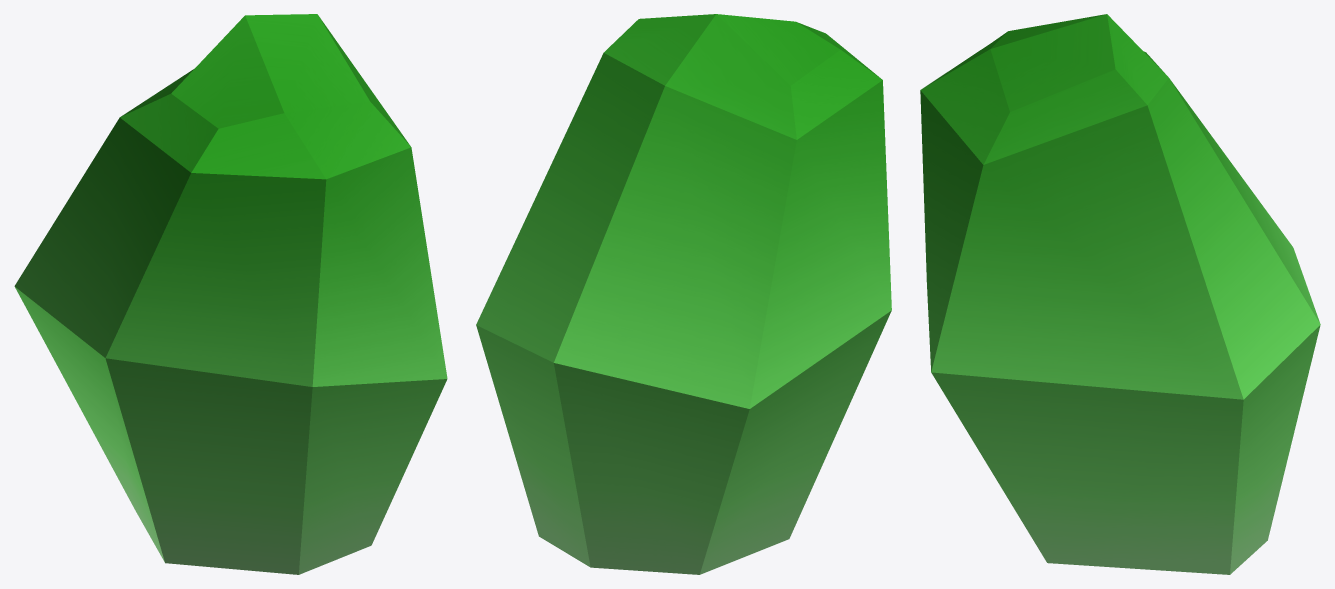
The model's file is Cristal05.fbx.
3 views of the same model, side by side, from view 1: azimuth 30°, elevation 25°; view 2: azimuth 150°, elevation 25°; view 3: azimuth 270°, elevation 25° (orthographic). The views are drawn at different scales.
Parts seen in each view (by area): view 1: Cylinder.021; view 2: Cylinder.021; view 3: Cylinder.021.
Boxes of the visible parts, bbox=[...] form: Cylinder.021: bbox=[14, 14, 447, 574]; Cylinder.021: bbox=[476, 14, 891, 574]; Cylinder.021: bbox=[920, 14, 1320, 574].
Bounding box in the file's own units: 152 × 226 × 162.
